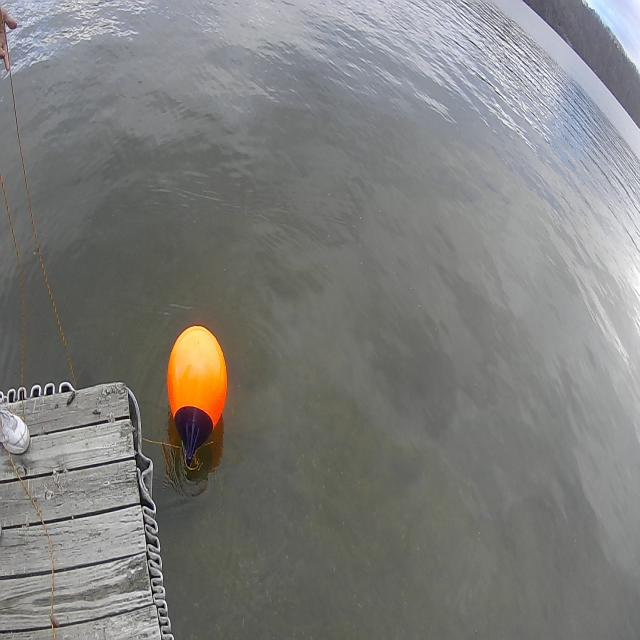Buoy: (163, 320, 230, 434)
